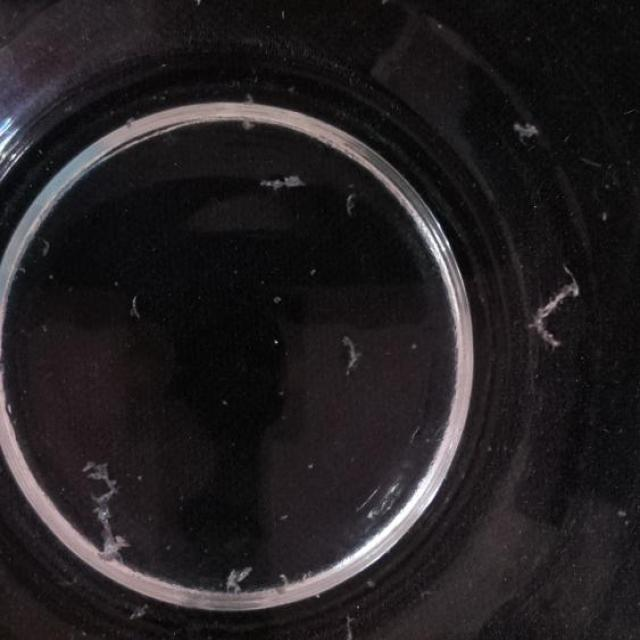fiber: (80, 464, 138, 556), (531, 258, 581, 355), (264, 168, 306, 192), (224, 566, 252, 602), (515, 119, 543, 143), (122, 600, 146, 628), (344, 335, 361, 372), (276, 567, 290, 597), (342, 188, 358, 211), (186, 0, 218, 10)
